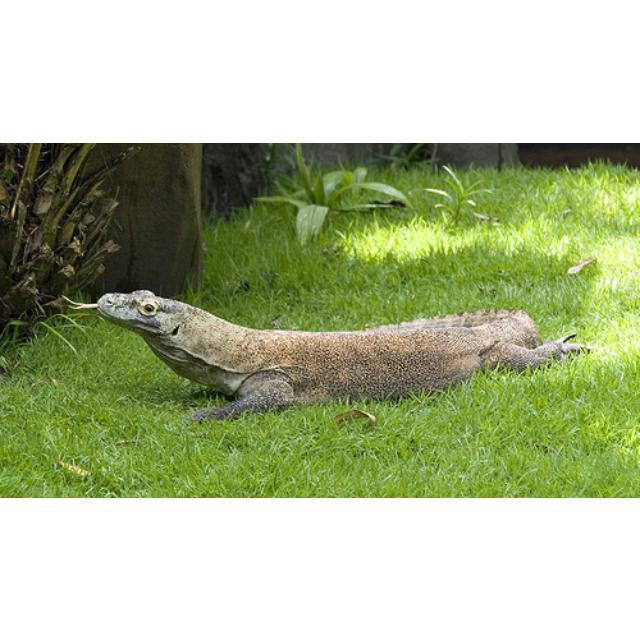KomodoDragon: (56, 285, 592, 421)
